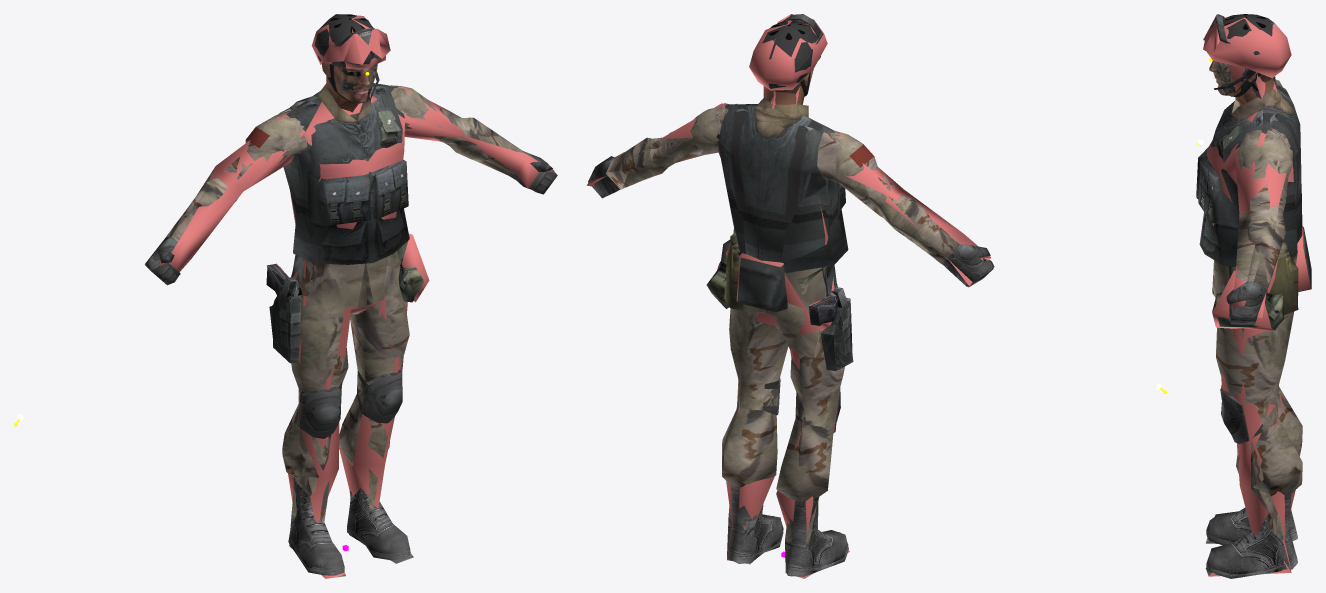
The model's file is DeltaMed.glb.
3 renders of one model, left to right at view 1: azimuth 30°, elevation 25°; view 2: azimuth 150°, elevation 25°; view 3: azimuth 270°, elevation 25°, orthographic.
Visible parts, largest first — view 1: 01 Mesh0.001, 01 Mesh0, 01 Mesh1.002, 01 Mesh0.003, 01 Mesh1; view 2: 01 Mesh0.001, 01 Mesh0, 01 Mesh1.002, 01 Mesh0.003; view 3: 01 Mesh0.001, 01 Mesh0, 01 Mesh1.002, 01 Mesh0.003, 01 Mesh0.002, 01 Mesh1.003, 01 Mesh1.001, 01 Mesh1.
Part boxes in pixels (x1,y1,x2,y2): 01 Mesh0.001: (145, 24, 557, 574); 01 Mesh0: (145, 14, 556, 575); 01 Mesh1.002: (158, 14, 554, 578); 01 Mesh0.003: (197, 84, 524, 577); 01 Mesh1: (322, 62, 374, 112); 01 Mesh0.001: (589, 20, 994, 575); 01 Mesh0: (588, 14, 993, 576); 01 Mesh1.002: (586, 14, 990, 578); 01 Mesh0.003: (623, 104, 950, 577); 01 Mesh0.001: (1196, 14, 1311, 577); 01 Mesh0: (1196, 14, 1307, 578); 01 Mesh1.002: (1203, 14, 1310, 576); 01 Mesh0.003: (1206, 91, 1297, 575); 01 Mesh0.002: (1209, 61, 1276, 98); 01 Mesh1.003: (1228, 64, 1276, 98); 01 Mesh1.001: (1209, 61, 1273, 105); 01 Mesh1: (1209, 61, 1266, 103).
Size of the model in its own units: 2.22 by 2.04 by 0.3958.
7 materials, 2 textured.
